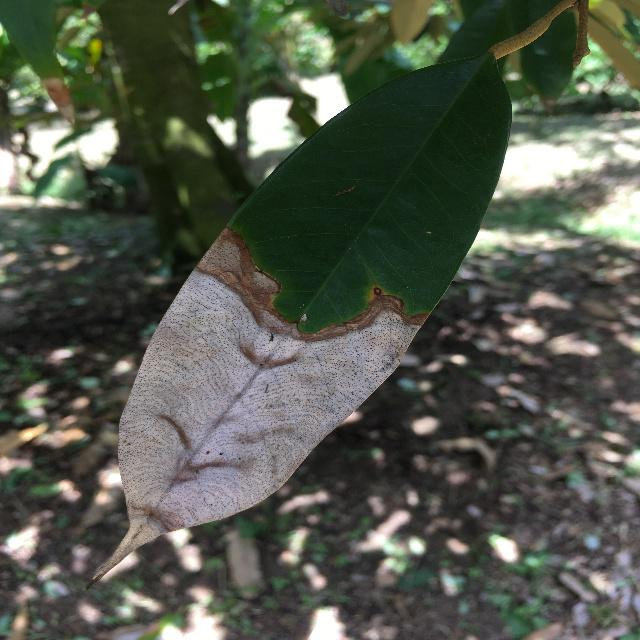Leaf Blight: (106, 47, 523, 572)
